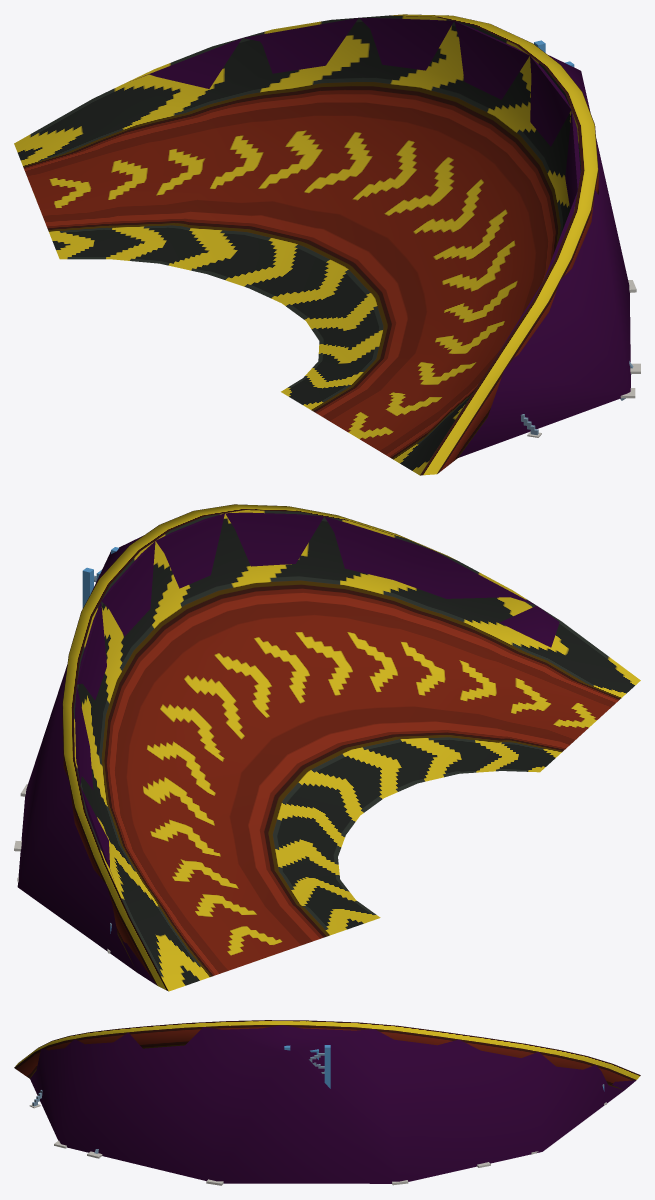
Rendered from Estakada_Circle2_1_0001.FBX.
The picture shows the model from 3 angles, top to bottom: view 1: azimuth 30°, elevation 25°; view 2: azimuth 150°, elevation 25°; view 3: azimuth 270°, elevation 25°; orthographic projection. The views are drawn at different scales.
Visible parts, largest first — view 1: Estakada_Circle_2_001, Estakada_Circle_2_01_Calider, Estakada_Circle_2_Vox_001; view 2: Estakada_Circle_2_001, Estakada_Circle_2_01_Calider; view 3: Estakada_Circle_2_01_Calider, Estakada_Circle_2_001, Estakada_Circle_2_Vox_001.
Part boxes in pixels (left/top/right/bottom): Estakada_Circle_2_001: left=14, top=14, right=598, bottom=475; Estakada_Circle_2_01_Calider: left=130, top=17, right=630, bottom=457; Estakada_Circle_2_Vox_001: left=520, top=40, right=640, bottom=437; Estakada_Circle_2_001: left=62, top=504, right=640, bottom=991; Estakada_Circle_2_01_Calider: left=17, top=512, right=559, bottom=985; Estakada_Circle_2_01_Calider: left=30, top=1025, right=635, bottom=1183; Estakada_Circle_2_001: left=14, top=1020, right=640, bottom=1089; Estakada_Circle_2_Vox_001: left=29, top=1045, right=606, bottom=1185.
Bounding box in the file's own units: 1.64 × 3.11 × 0.8229.
